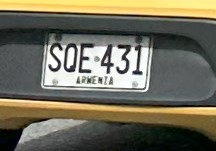number plate: (41, 33, 152, 91)
